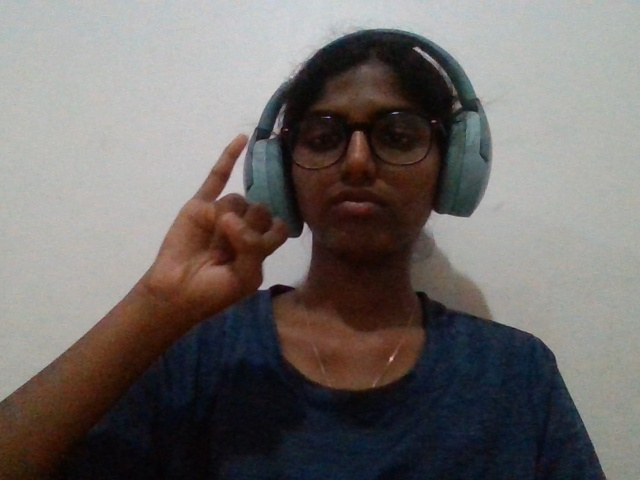I: (125, 121, 309, 371)
